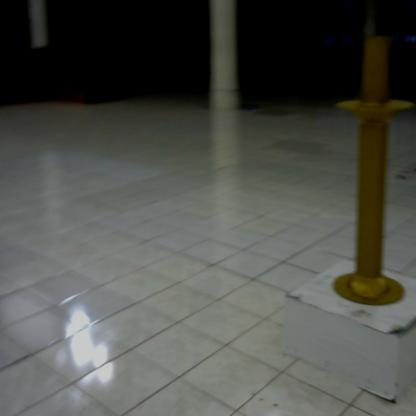pole: (326, 26, 416, 320)
